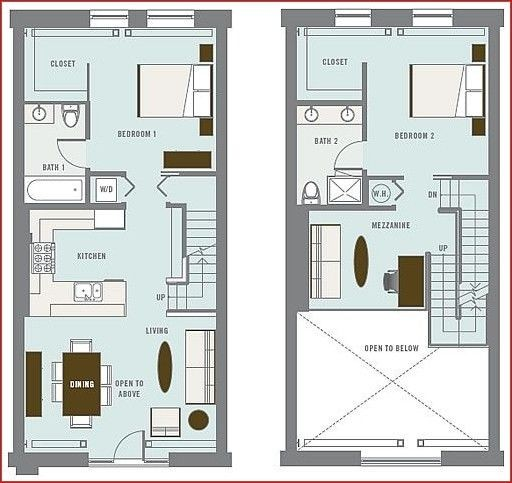door: (47, 131, 93, 170), (112, 422, 149, 466), (326, 139, 372, 171)
room: (283, 12, 493, 209), (14, 22, 231, 211), (5, 314, 231, 470), (12, 202, 231, 328), (288, 208, 436, 311)
wall: (280, 3, 302, 453), (485, 11, 505, 466), (9, 13, 27, 454), (215, 6, 231, 467), (15, 196, 127, 217), (5, 6, 91, 30), (280, 447, 364, 468), (289, 198, 401, 213), (10, 450, 89, 470), (450, 8, 507, 33), (282, 6, 334, 33), (167, 450, 233, 471), (370, 3, 413, 35), (437, 447, 507, 466), (192, 7, 232, 32), (287, 98, 369, 109), (359, 59, 369, 142), (126, 4, 148, 33), (84, 170, 128, 183), (20, 98, 90, 105), (368, 173, 404, 184), (82, 163, 91, 206), (83, 102, 91, 140)
window: (358, 454, 441, 468), (413, 6, 454, 27), (332, 6, 373, 24), (145, 10, 193, 23), (88, 9, 128, 22)
